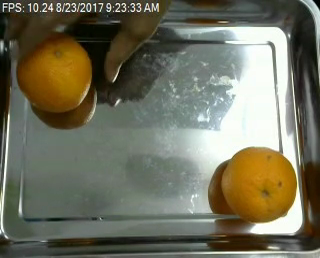Orange: (221, 145, 296, 222)
